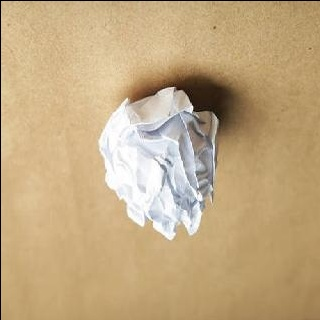8/可回收垃圾/纸: (98, 87, 220, 242)
